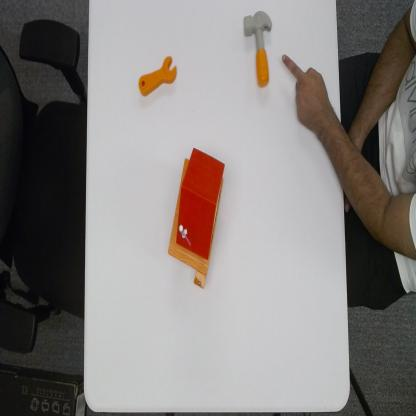Hammer: (243, 9, 275, 89)
Hand: (280, 50, 336, 141)
House: (166, 145, 226, 289)
Screwdriver: (137, 52, 178, 99)
